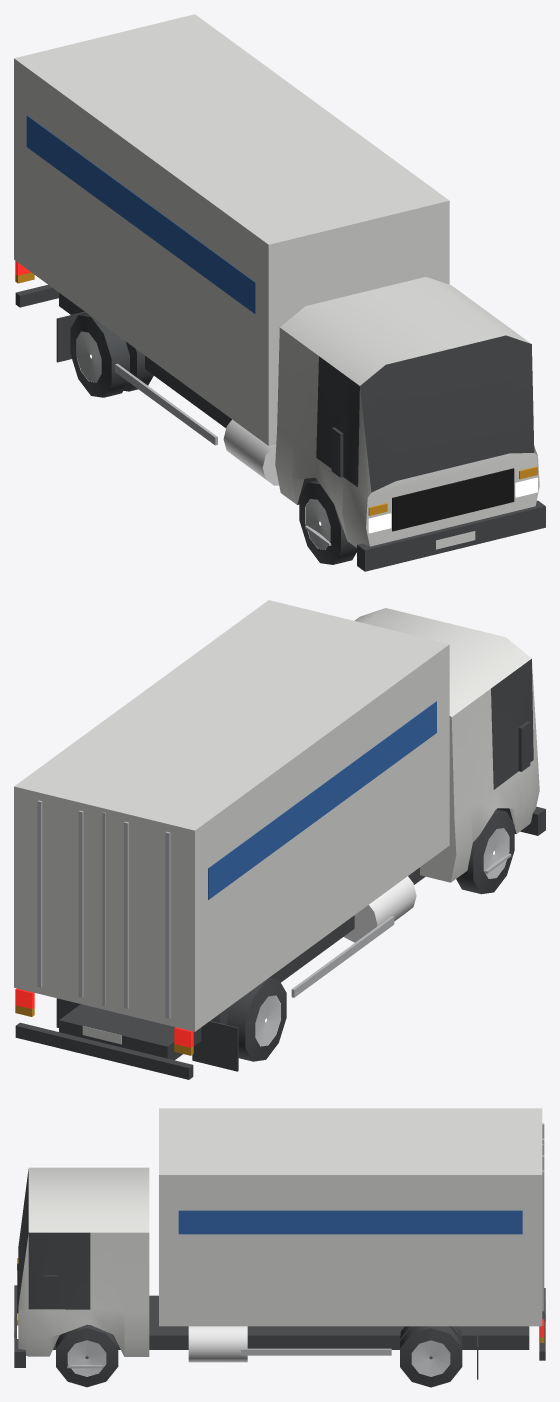
File: truck_lod1.glb
3 views of the same model, one above another, from view 1: azimuth 30°, elevation 25°; view 2: azimuth 150°, elevation 25°; view 3: azimuth 270°, elevation 25° (orthographic). The views are drawn at different scales.
Parts seen in each view (by area): view 1: truck_lod1; view 2: truck_lod1; view 3: truck_lod1.
Part boxes in pixels (left/top/right/bottom): truck_lod1: left=14, top=14, right=545, bottom=571; truck_lod1: left=14, top=600, right=545, bottom=1079; truck_lod1: left=14, top=1108, right=545, bottom=1387.
Size of the model in its own units: 0.126 by 0.18 by 0.4059.
